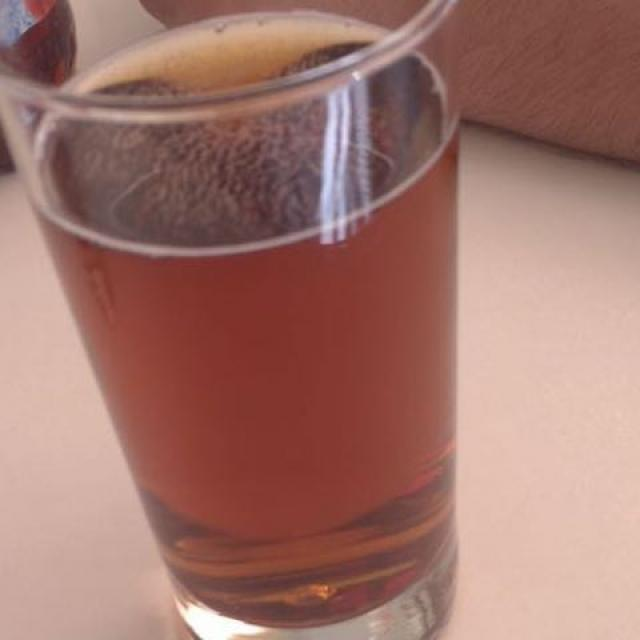beer: (25, 18, 461, 573)
